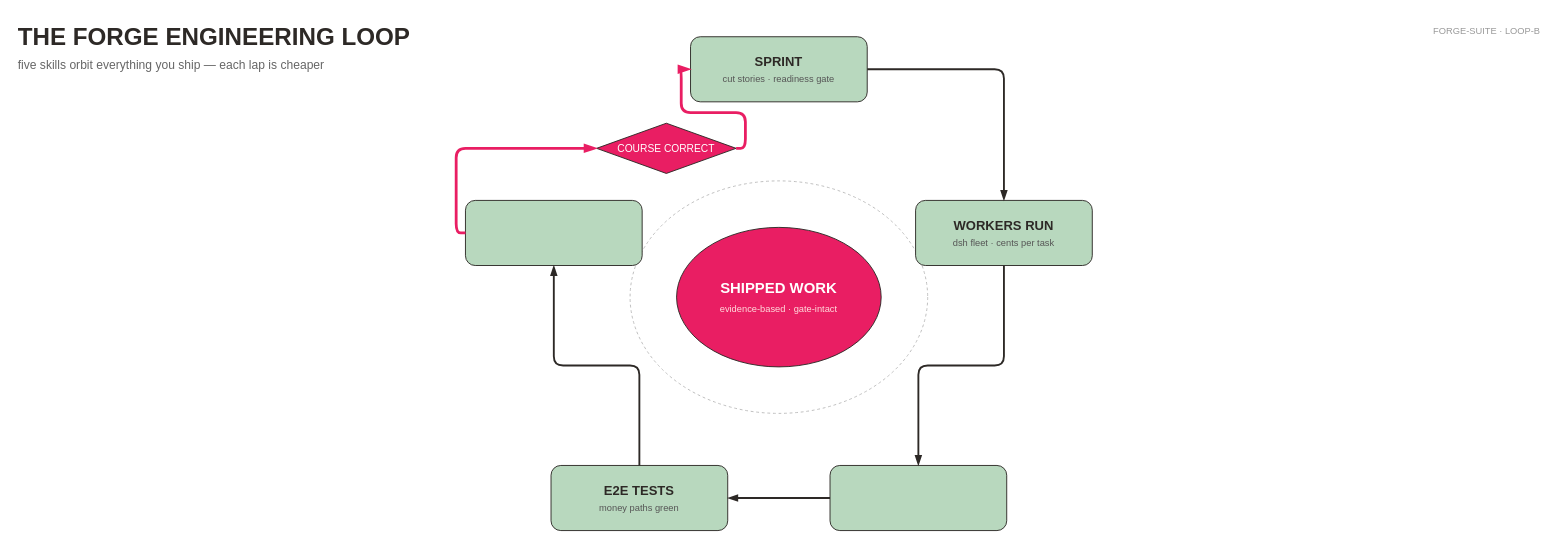
The diagram is 1557 pixels wide and 547 high, and some of its shapes have lost their labels. The box of each missing label's shape, as (x1, y1, x2, y2) in pixels:
RETRO verified findings · max 3 changes: (465, 199, 642, 266)
REVIEW lenses gate merges: (829, 465, 1007, 531)
